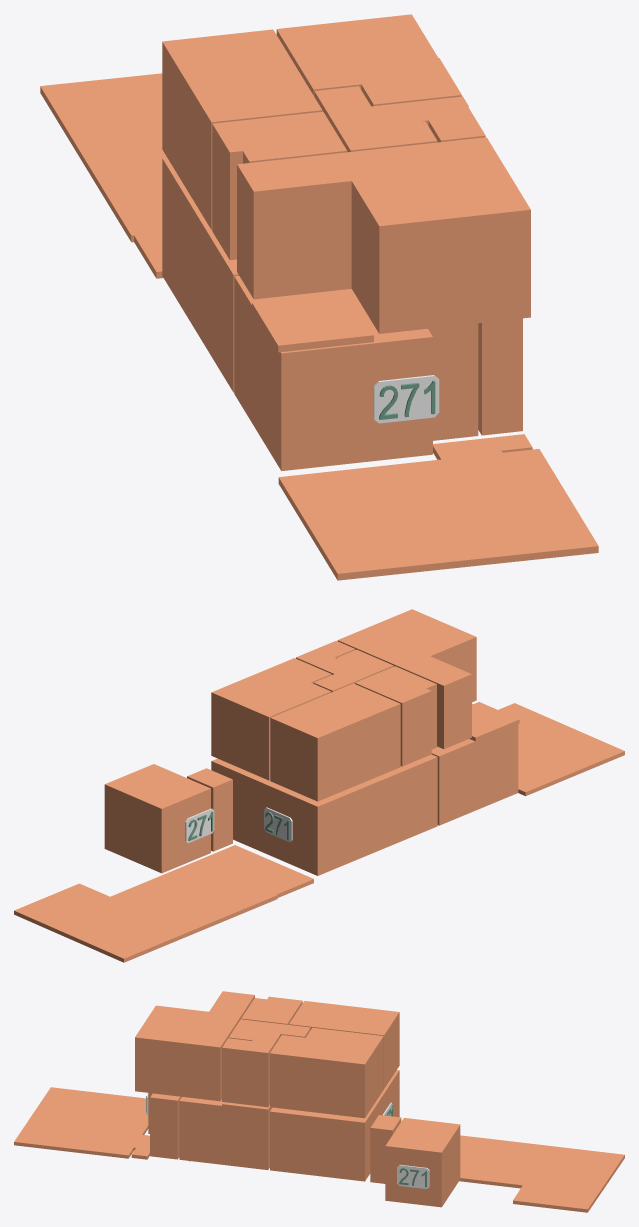
The picture shows the model from 3 angles, top to bottom: view 1: azimuth 30°, elevation 25°; view 2: azimuth 150°, elevation 25°; view 3: azimuth 270°, elevation 25°; orthographic projection. The views are drawn at different scales.
Visible parts, largest first — view 1: g_8, g_13, g_1, g_7, g_14, g_6, g_0, g_9, g_12, g_5, g_2, g_10 (+2 smaller); view 2: g_14, g_0, g_7, g_3, g_8, g_6, g_1, g_13, g_9, g_4, g_10, g_12 (+3 smaller); view 3: g_6, g_8, g_14, g_13, g_0, g_2, g_3, g_7, g_11, g_5, g_4, g_10 (+2 smaller).
Boxes of the visible parts, box(x1,y1,x2,y2) form: g_8: box(237, 137, 530, 333); g_13: box(278, 434, 598, 580); g_1: box(234, 276, 432, 470); g_7: box(162, 29, 322, 229); g_14: box(40, 73, 166, 278); g_6: box(276, 14, 460, 106); g_0: box(162, 157, 239, 392); g_9: box(212, 111, 347, 260); g_12: box(252, 292, 373, 352); g_5: box(478, 318, 522, 435); g_2: box(428, 323, 478, 440); g_10: box(314, 86, 437, 152); g_14: box(14, 845, 313, 962); g_0: box(211, 754, 437, 875); g_7: box(270, 683, 400, 801); g_3: box(104, 764, 210, 873); g_8: box(337, 609, 476, 748); g_6: box(211, 658, 331, 780); g_1: box(431, 703, 518, 825); g_13: box(498, 703, 624, 796); g_9: box(355, 666, 436, 766); g_4: box(187, 768, 232, 851); g_10: box(313, 649, 393, 692); g_12: box(469, 702, 519, 741); g_6: box(270, 1027, 383, 1118); g_8: box(135, 991, 254, 1101); g_14: box(459, 1135, 624, 1212); g_13: box(14, 1087, 149, 1159); g_0: box(270, 1070, 399, 1181); g_2: box(179, 1097, 272, 1169); g_3: box(385, 1118, 460, 1207); g_7: box(289, 1001, 399, 1088); g_11: box(222, 1038, 275, 1107); g_5: box(150, 1093, 181, 1159); g_4: box(370, 1115, 401, 1183); g_10: box(228, 1019, 310, 1043).
Size of the model in its own units: 11.6 by 5.35 by 24.51.
